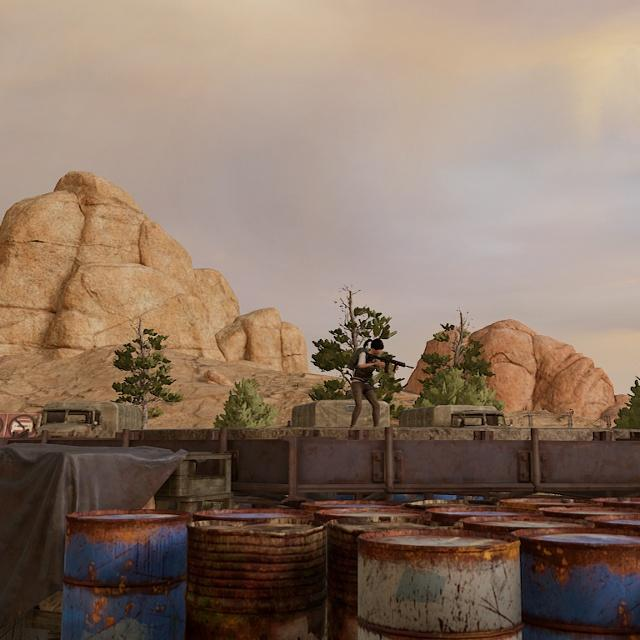head: (366, 336, 388, 355)
people: (346, 335, 393, 429)
